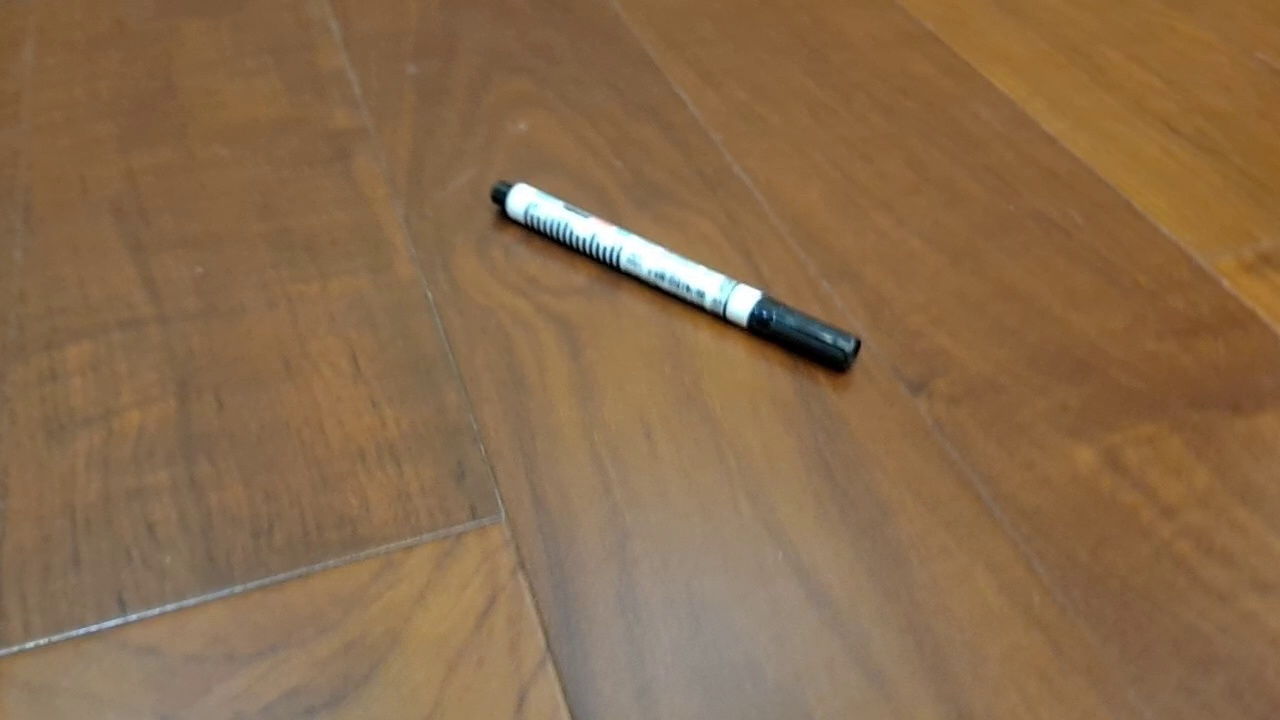pen: (489, 177, 862, 375)
